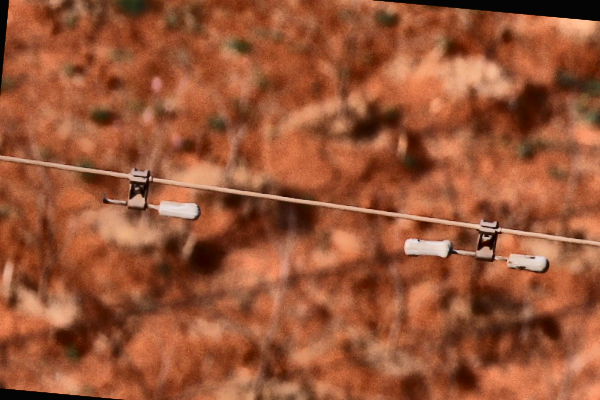damper: (399, 216, 551, 275)
damper_defect: (99, 165, 203, 223)
